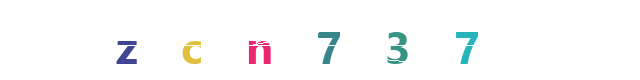3: (322, 0, 402, 80)
7: (280, 0, 360, 80), (411, 0, 491, 80)
C: (151, 0, 231, 80)
N: (219, 0, 299, 80)
Z: (86, 0, 166, 80)
